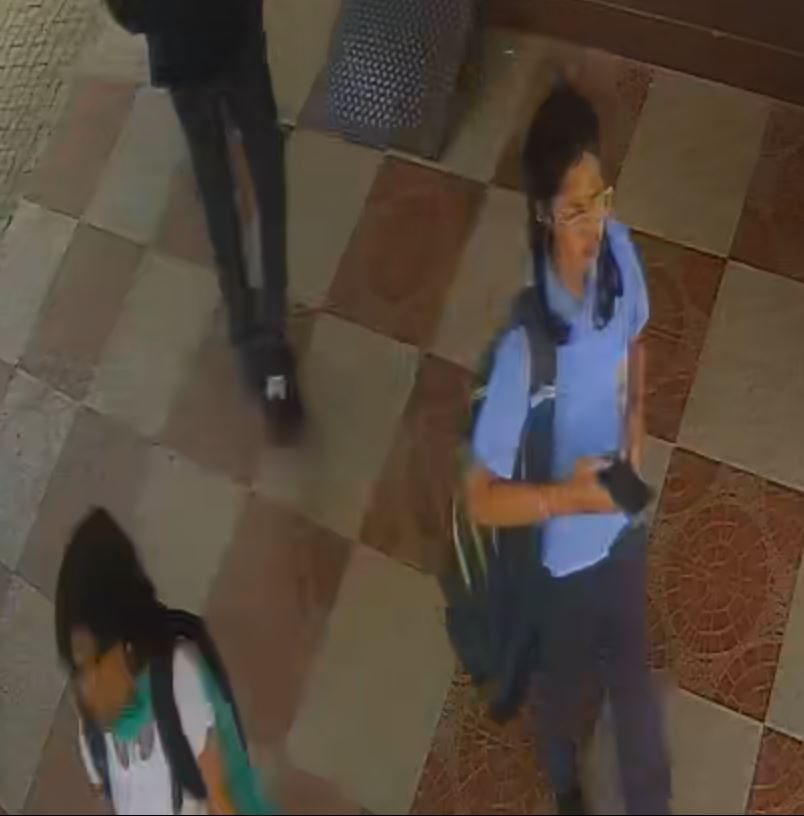intruder: (446, 82, 690, 813)
